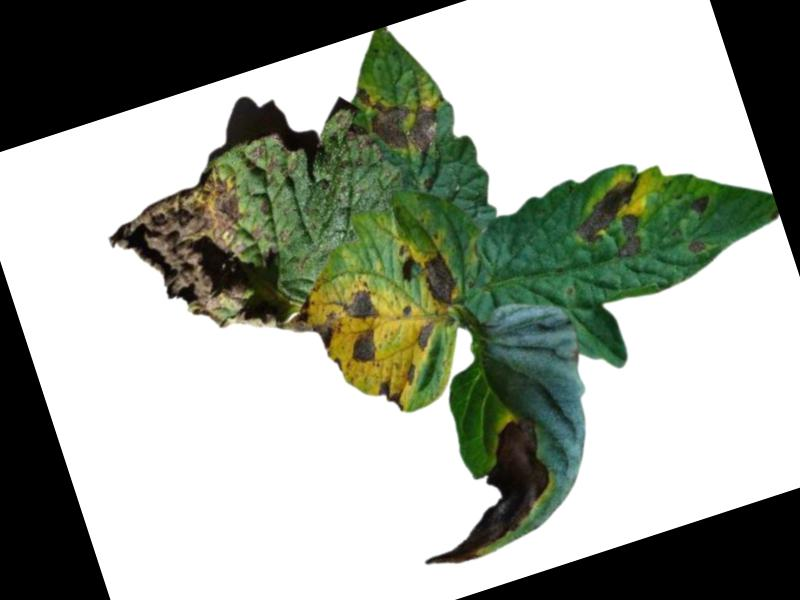Early_blight: (98, 160, 289, 367), (391, 414, 569, 574), (350, 62, 448, 171), (565, 173, 662, 272), (270, 286, 348, 364), (414, 249, 464, 316), (336, 279, 382, 327), (332, 104, 371, 159), (344, 327, 383, 368), (373, 375, 407, 419), (410, 322, 442, 352), (241, 141, 270, 169), (689, 193, 714, 218), (403, 365, 420, 387), (686, 239, 706, 255)
